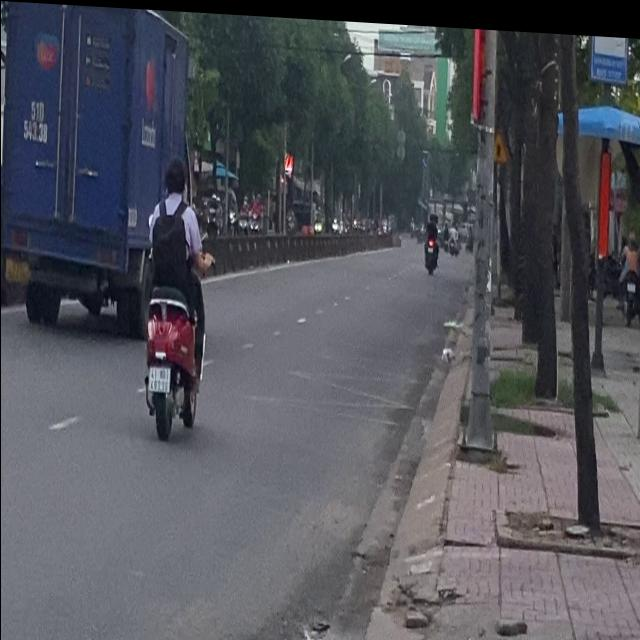licenseplate: (137, 150, 206, 437)
motorcyclist: (161, 153, 184, 192)
nohelmet: (148, 363, 168, 389)
